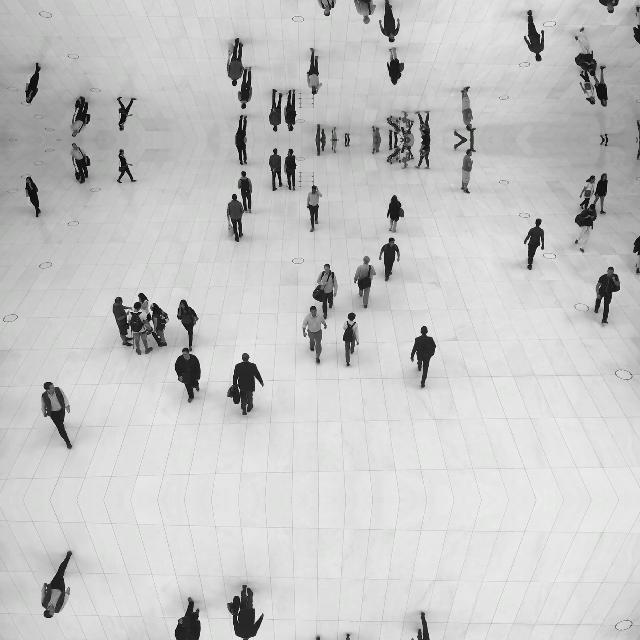person: (41, 382, 73, 450), (41, 550, 73, 618), (232, 352, 264, 416), (232, 584, 264, 640), (409, 326, 436, 388), (174, 347, 202, 403), (301, 306, 327, 364), (594, 267, 620, 325), (128, 301, 152, 355), (316, 264, 338, 320), (574, 203, 598, 253), (574, 27, 598, 77), (177, 300, 200, 352), (174, 597, 201, 640), (354, 256, 376, 308), (112, 297, 134, 347), (524, 218, 544, 270), (524, 10, 544, 62), (378, 236, 400, 282), (378, 0, 400, 43), (343, 312, 359, 368), (306, 184, 324, 232), (227, 194, 245, 242), (306, 48, 324, 96), (227, 38, 245, 86), (70, 142, 90, 184), (70, 96, 90, 138), (150, 303, 168, 347), (409, 611, 436, 640), (116, 148, 136, 184), (116, 96, 136, 132), (237, 66, 253, 110), (237, 170, 253, 213), (387, 195, 405, 233), (387, 47, 405, 85), (25, 176, 41, 218), (25, 62, 41, 104), (593, 173, 609, 214), (579, 174, 597, 210), (579, 70, 597, 106), (460, 148, 474, 194), (460, 86, 474, 132), (593, 66, 609, 106), (269, 148, 283, 192), (269, 88, 283, 132), (353, 0, 376, 24), (414, 140, 432, 170), (414, 110, 432, 140), (284, 148, 296, 192), (284, 88, 296, 132), (397, 140, 415, 168), (397, 112, 415, 140), (136, 292, 150, 320), (235, 140, 248, 166), (594, 0, 620, 13), (235, 114, 248, 140), (316, 0, 337, 16), (632, 236, 640, 274), (632, 6, 640, 44), (454, 140, 476, 152), (454, 128, 476, 140), (315, 140, 325, 156), (315, 124, 325, 140), (372, 140, 382, 154), (372, 126, 382, 140), (301, 635, 327, 640), (343, 632, 359, 640), (329, 140, 338, 154), (329, 126, 338, 140), (389, 140, 398, 150), (389, 130, 398, 140), (636, 140, 640, 160), (636, 120, 640, 140), (345, 140, 351, 148), (600, 140, 608, 146), (345, 132, 351, 140), (600, 134, 608, 140)
